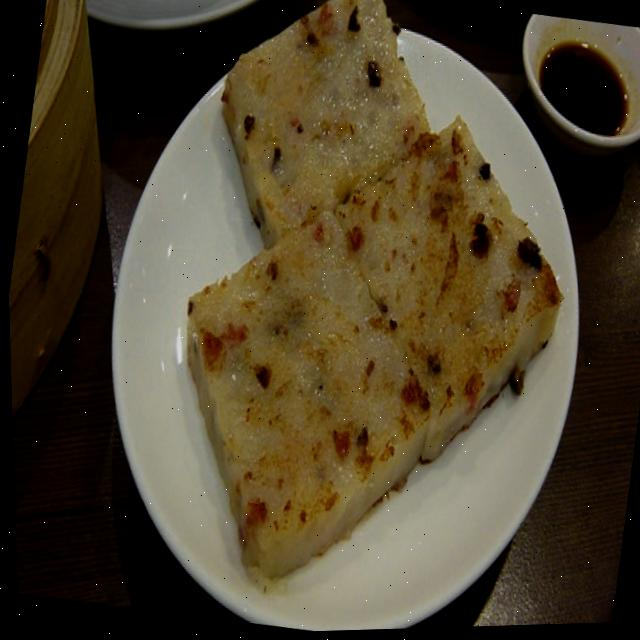蛋糕甜品: (31, 0, 640, 639)
